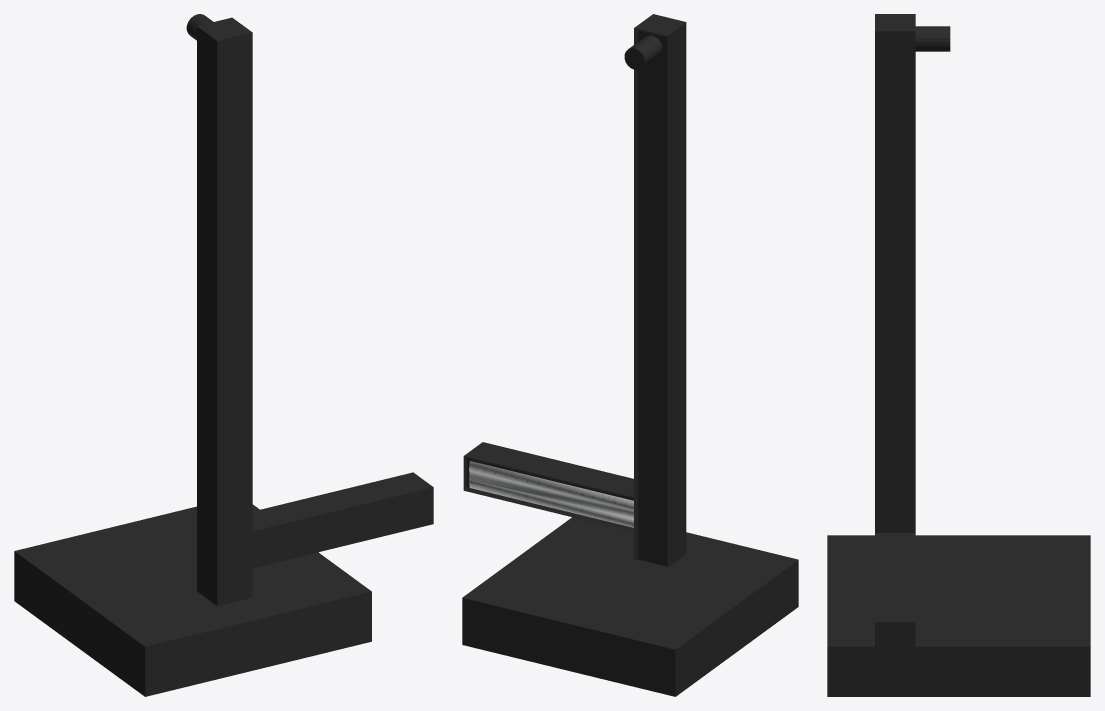
The model's file is Pendulum.gltf.
3 renders of one model, left to right at view 1: azimuth 30°, elevation 25°; view 2: azimuth 150°, elevation 25°; view 3: azimuth 270°, elevation 25°, orthographic. The views are drawn at different scales.
Parts seen in each view (by area): view 1: Cylinder.007; view 2: Cylinder.007; view 3: Cylinder.007.
Boxes of the visible parts, <box> form: Cylinder.007: <box>14,14,433,696</box>; Cylinder.007: <box>462,14,798,696</box>; Cylinder.007: <box>827,14,1090,696</box>.
Size of the model in its own units: 5.36 by 10.09 by 3.89.
2 materials, 1 textured.
